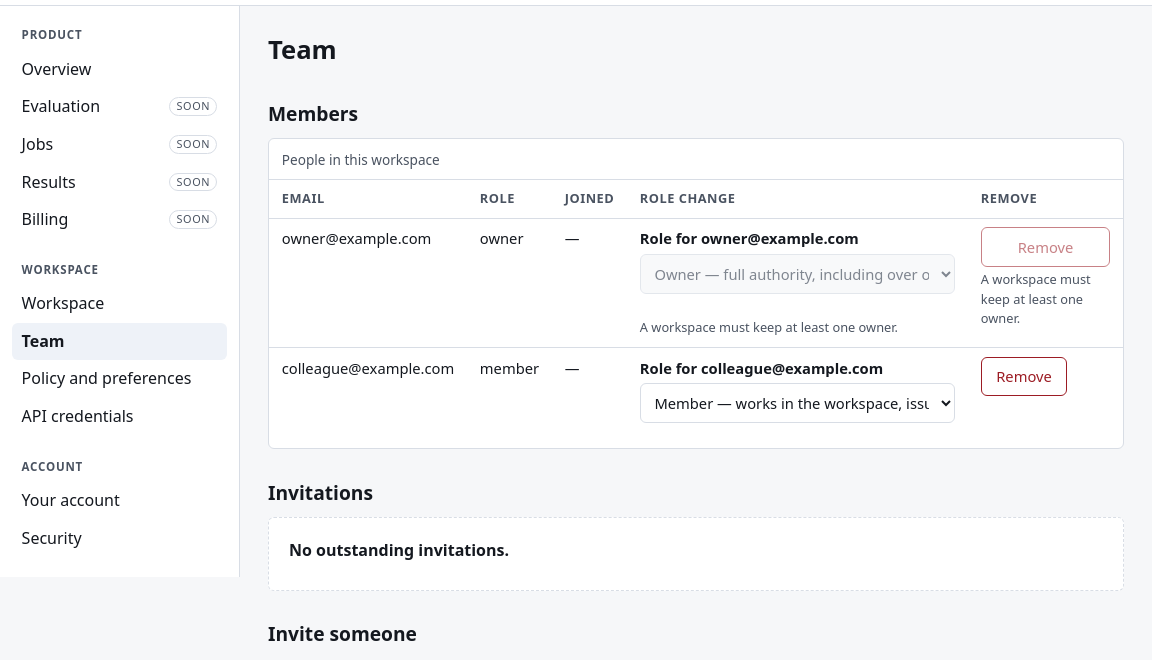
Scenario: demotion while the page is open › believes the server's 403, re-reads authority, and re-renders as the new role
Check: the heading "Team" is shown, box [268,32,337,67]
Click the button "Remove" next to "Role for colleague@example.com".
click(1024, 376)  # box [981,357,1067,396]
(page scrolled)
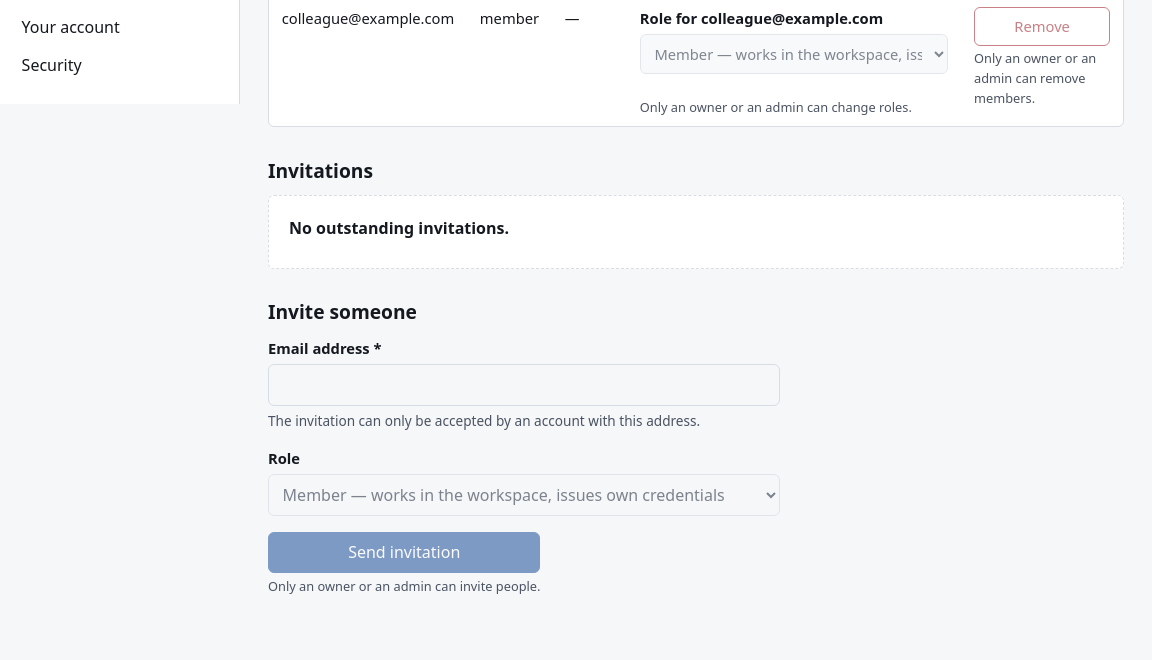
Check: the button "Send invitation" is disabled, box [268,532,540,574]
